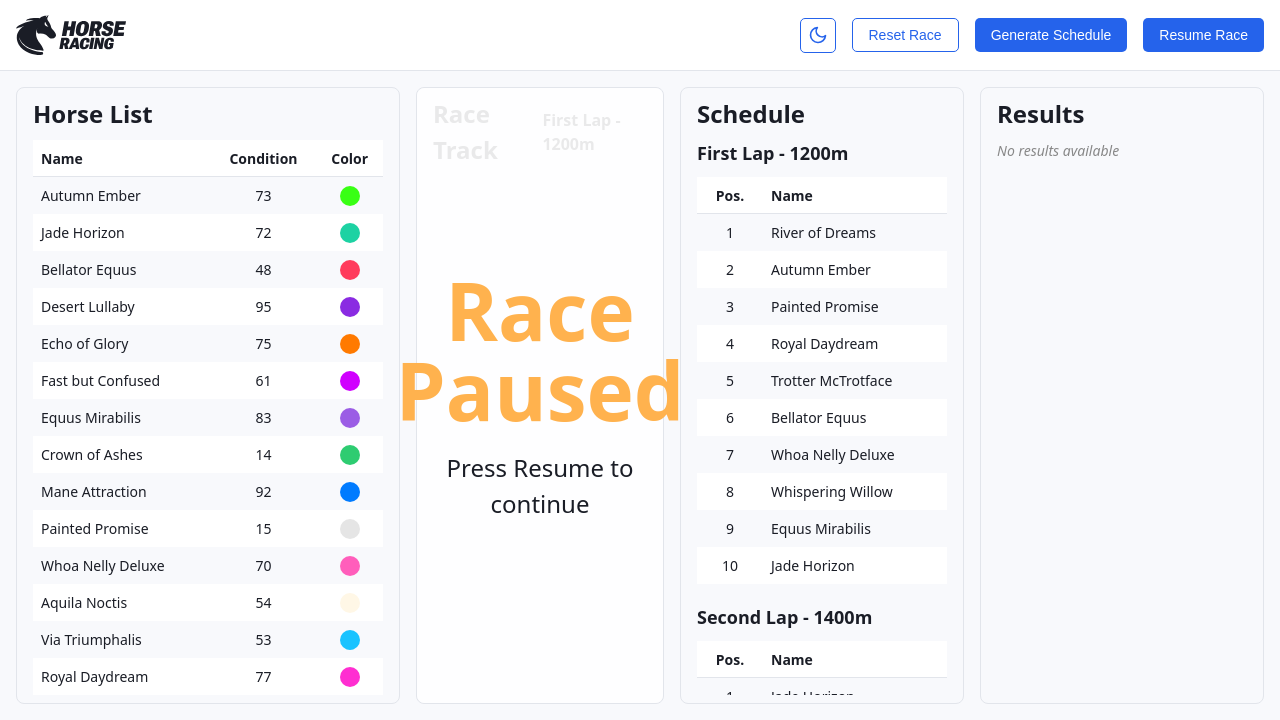
Race Flow › can resume after pause
Click the button "Resume Race": (1204, 35) [1143, 18, 1264, 52]
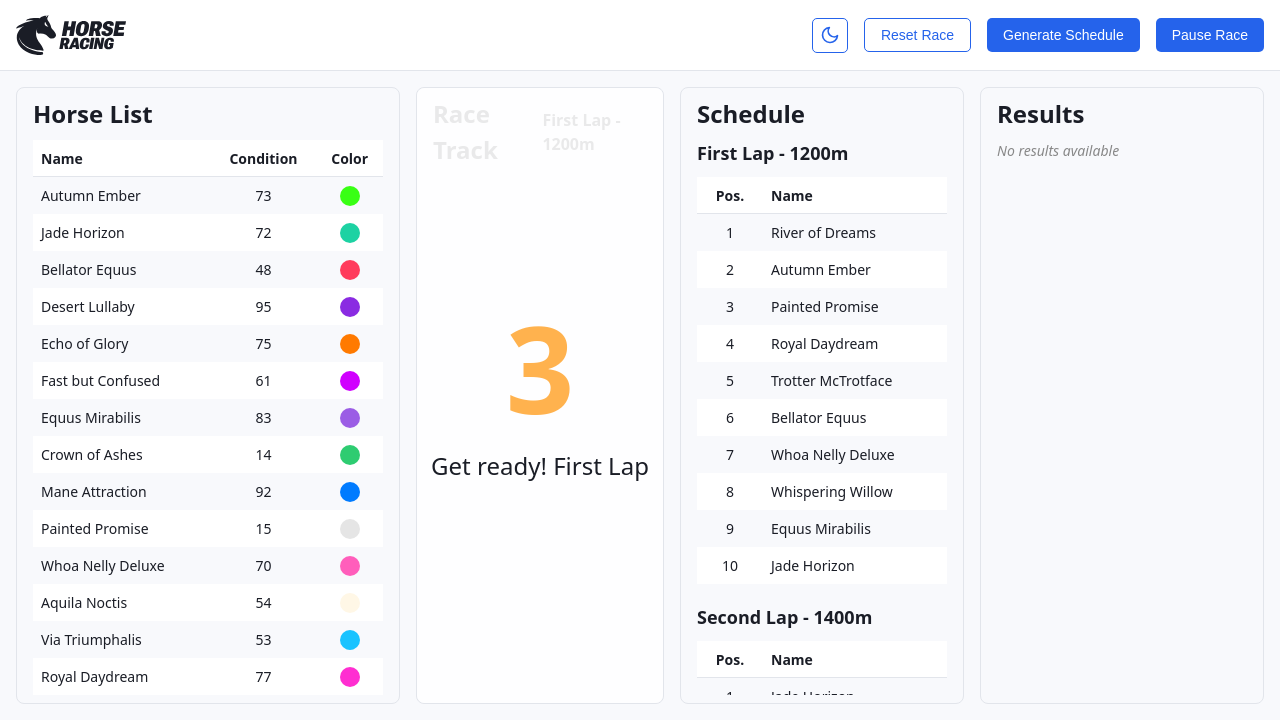
Expected: the text "Race Paused" is gone
